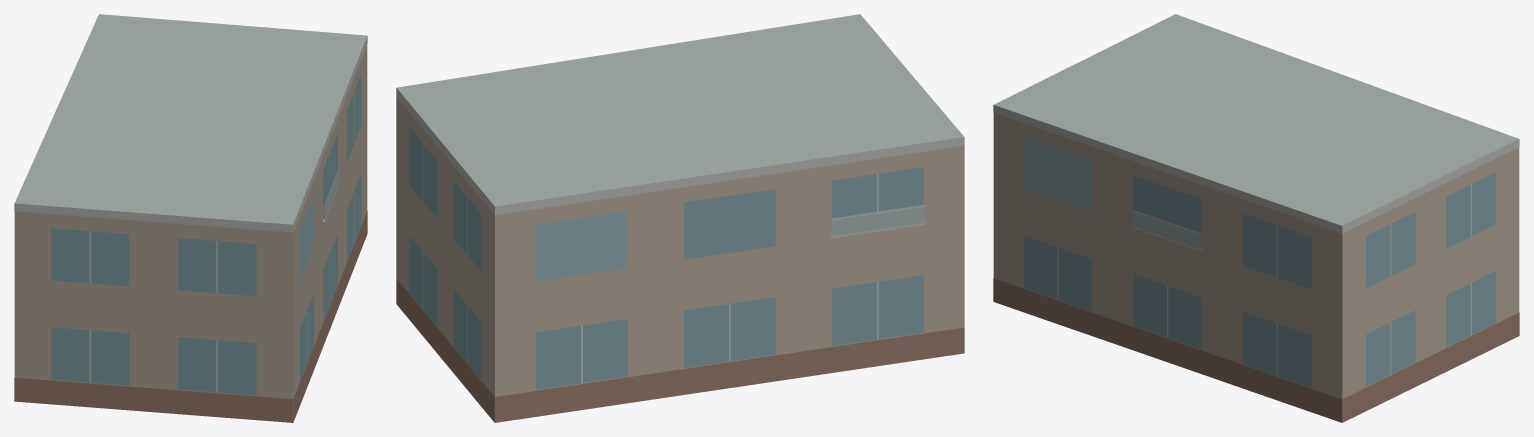
The model's file is survey-upis-32539872.glb.
3 views of the same model, side by side, from view 1: azimuth 30°, elevation 25°; view 2: azimuth 150°, elevation 25°; view 3: azimuth 270°, elevation 25° (orthographic). The views are drawn at different scales.
Parts seen in each view (by area): view 1: survey-upis-32539872.tmp; view 2: survey-upis-32539872.tmp; view 3: survey-upis-32539872.tmp.
Boxes of the visible parts, box(x1,y1,x2,y2) form: survey-upis-32539872.tmp: box(14, 14, 367, 422); survey-upis-32539872.tmp: box(396, 14, 964, 422); survey-upis-32539872.tmp: box(993, 14, 1519, 422).
Size of the model in its own units: 14.08 by 6.1 by 14.77.
